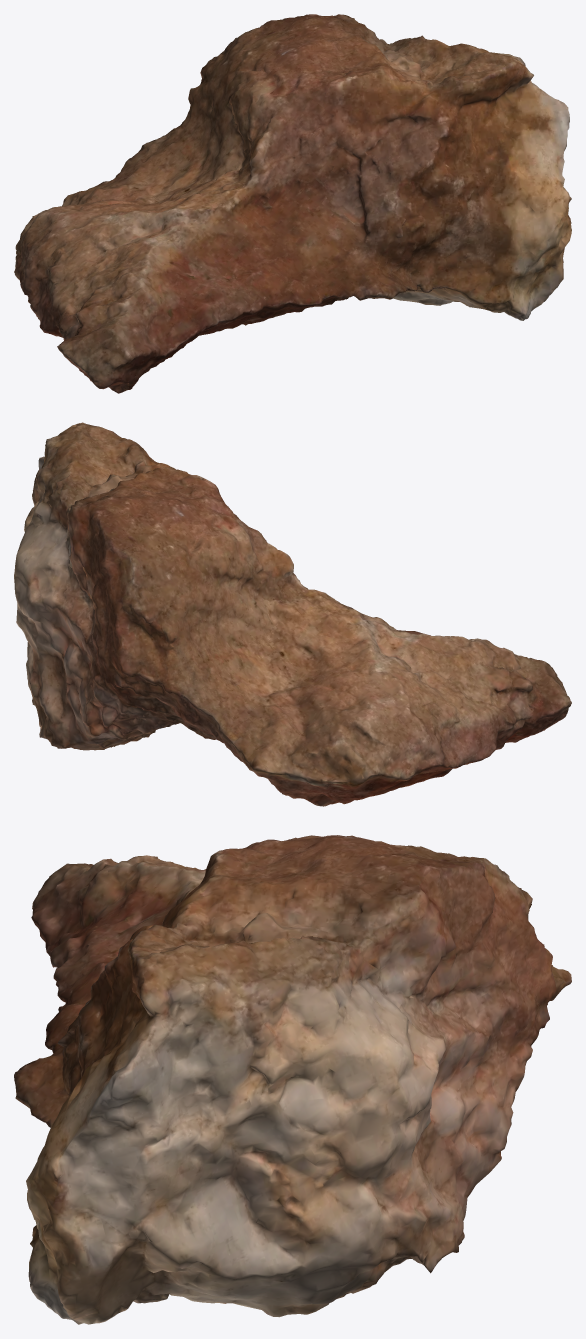
Rendered from stone_01.glb.
3 views of the same model, one above another, from view 1: azimuth 30°, elevation 25°; view 2: azimuth 150°, elevation 25°; view 3: azimuth 270°, elevation 25° (orthographic). The views are drawn at different scales.
Visible parts, largest first — view 1: stone_01; view 2: stone_01; view 3: stone_01.
Part boxes in pixels (<box>): stone_01: <box>14,14,571,393</box>; stone_01: <box>14,422,571,806</box>; stone_01: <box>14,835,571,1324</box>.
Bounding box in the file's own units: 0.1469 × 0.0718 × 0.0891.
1 material, 1 textured.
